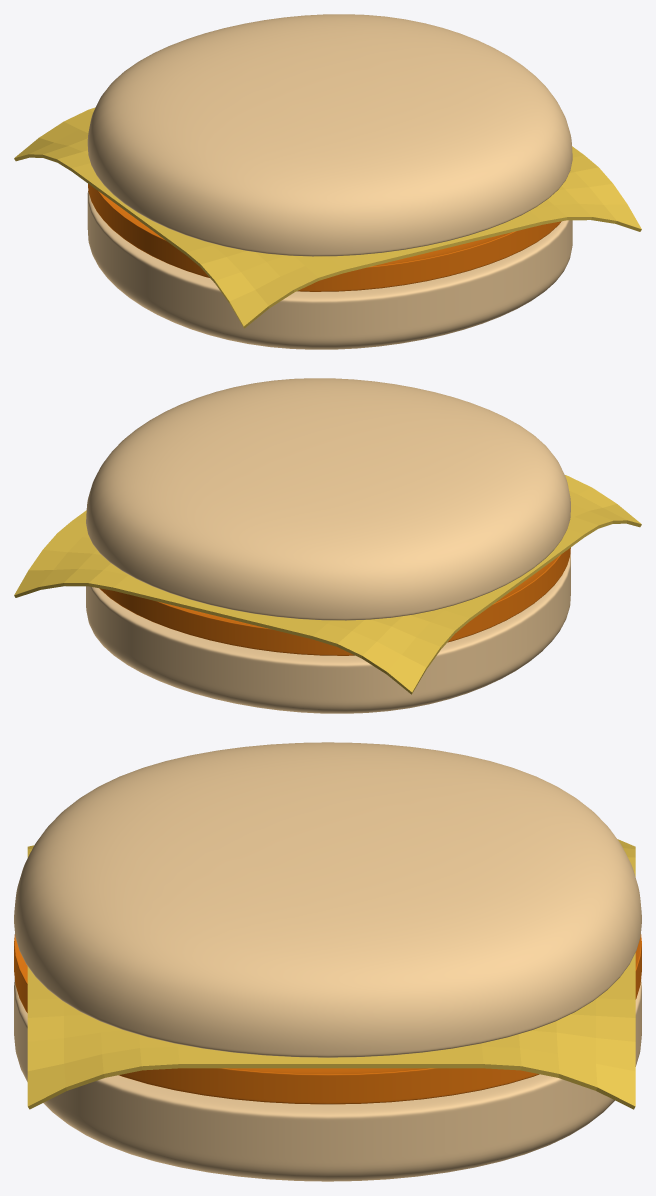
File: hamburger.glb
3 renders of one model, top to bottom at view 1: azimuth 30°, elevation 25°; view 2: azimuth 150°, elevation 25°; view 3: azimuth 270°, elevation 25°, orthographic. The views are drawn at different scales.
Visible parts, largest first — view 1: Cube.002, Cube, Plane, Cube.001; view 2: Cube.002, Cube, Plane, Cube.001; view 3: Cube.002, Cube, Plane, Cube.001.
Part boxes in pixels (x1,y1,x2,y2): Cube.002: (87, 14, 572, 256); Cube: (87, 191, 572, 349); Plane: (14, 107, 641, 328); Cube.001: (88, 184, 561, 291); Cube.002: (86, 378, 570, 620); Cube: (86, 554, 570, 713); Plane: (14, 475, 641, 694); Cube.001: (99, 547, 570, 655); Cube.002: (14, 742, 641, 1057); Cube: (14, 979, 641, 1181); Plane: (27, 839, 635, 1109); Cube.001: (14, 934, 641, 1104).
Size of the model in its own units: 9.17 by 4.05 by 9.17.
